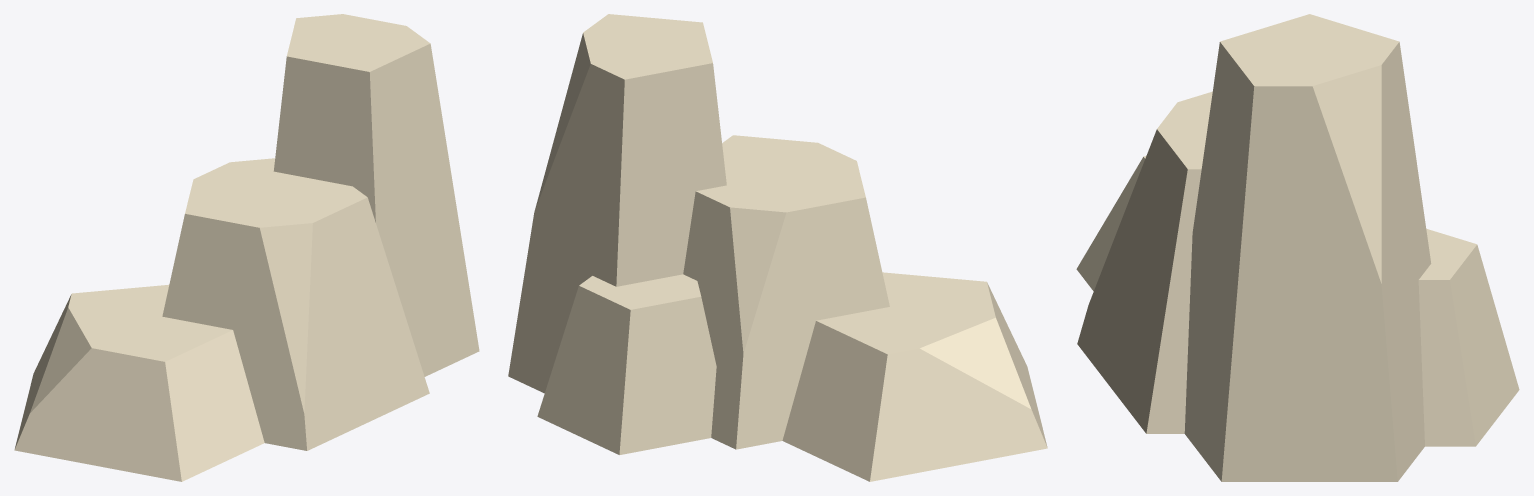
3 views of the same model, side by side, from view 1: azimuth 30°, elevation 25°; view 2: azimuth 150°, elevation 25°; view 3: azimuth 270°, elevation 25° (orthographic). The views are drawn at different scales.
Visible parts, largest first — view 1: rockC; view 2: rockC; view 3: rockC.
Part boxes in pixels (bbox=[...]): rockC: bbox=[14, 14, 479, 481]; rockC: bbox=[508, 14, 1047, 481]; rockC: bbox=[1076, 14, 1519, 481].
Bounding box in the file's own units: 0.7837 × 0.51 × 0.5468.
